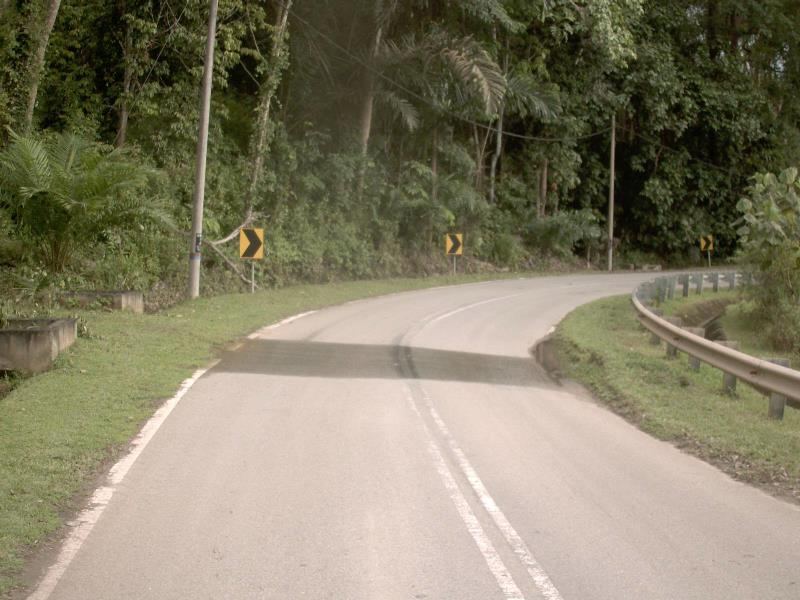traffic_sign: (231, 219, 271, 266)
